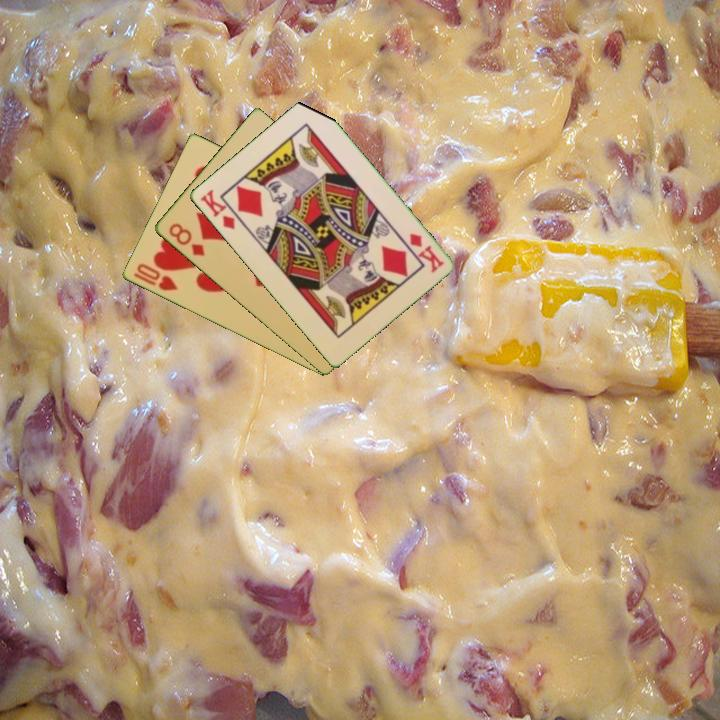10h: (129, 260, 180, 294)
8d: (165, 219, 208, 259)
Kd: (196, 186, 238, 233), (405, 230, 447, 275)
